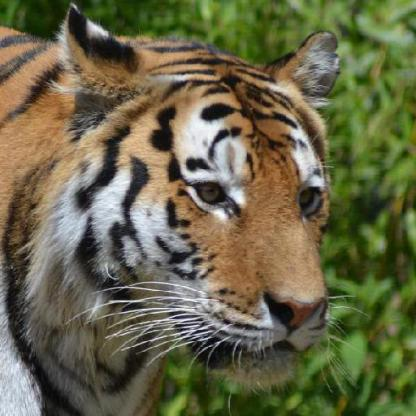tiger: (40, 26, 388, 363)
